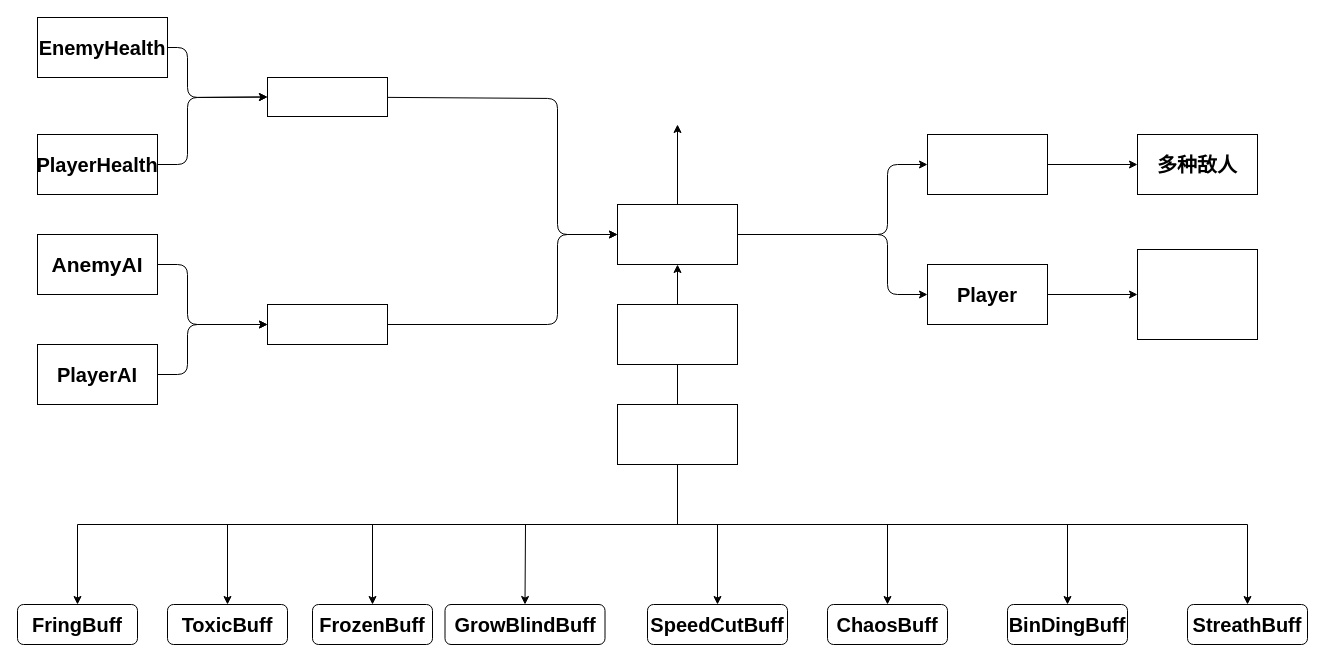
The diagram is 1325 pixels wide and 662 high, and some of its shapes have lost their labels. Each missing label, with the centre of its shape:
AbstractBuff: point 677,434
AI: point 327,324
BuffManger: point 677,334
Enemy: point 987,164
Health: point 327,96
Role: point 677,234
多种职业（攻击方式为职业提供 ）: point 1197,294
